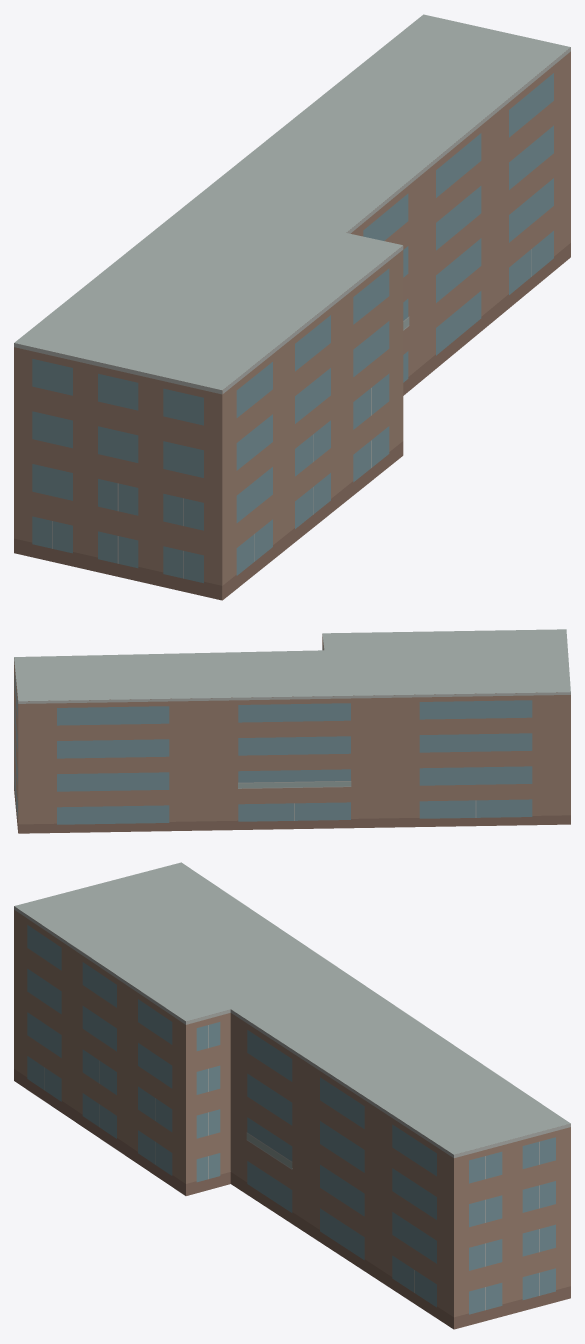
File: survey-upis-32917061.glb
3 views of the same model, one above another, from view 1: azimuth 30°, elevation 25°; view 2: azimuth 150°, elevation 25°; view 3: azimuth 270°, elevation 25° (orthographic). The views are drawn at different scales.
Visible parts, largest first — view 1: survey-upis-32917061.tmp; view 2: survey-upis-32917061.tmp; view 3: survey-upis-32917061.tmp.
Part boxes in pixels (x1=…): survey-upis-32917061.tmp: x1=14, y1=14, x2=570, y2=600; survey-upis-32917061.tmp: x1=14, y1=629, x2=570, y2=833; survey-upis-32917061.tmp: x1=14, y1=862, x2=570, y2=1329.
Bounding box in the file's own units: 43.78 × 12.2 × 35.24.
